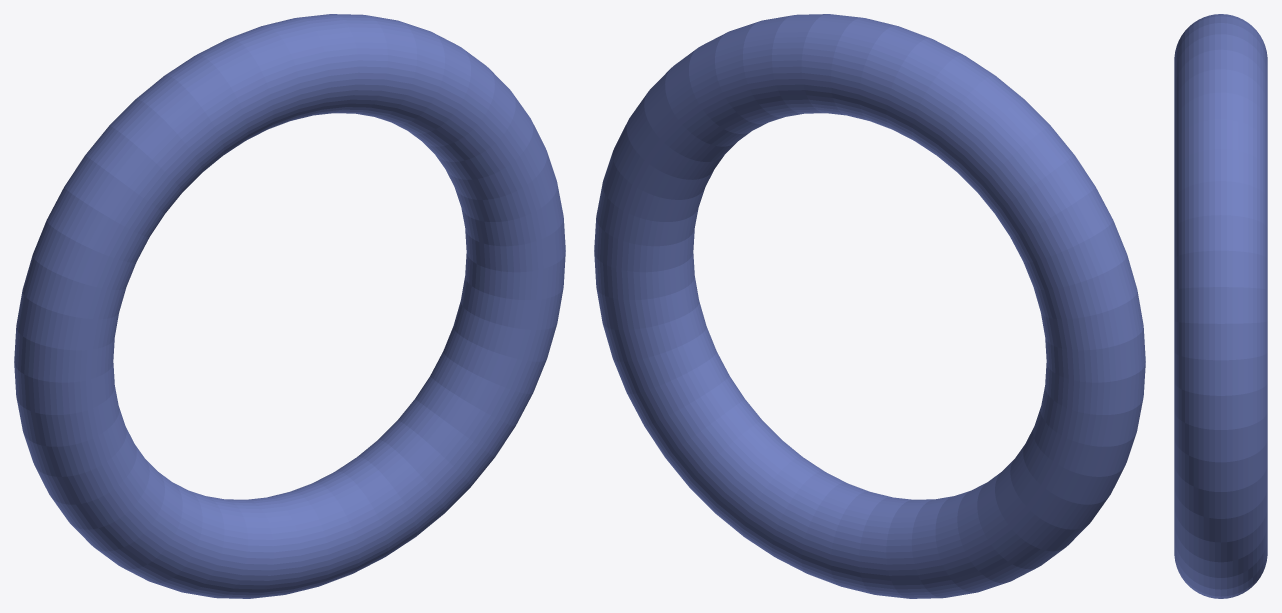
3 renders of one model, left to right at view 1: azimuth 30°, elevation 25°; view 2: azimuth 150°, elevation 25°; view 3: azimuth 270°, elevation 25°, orthographic. The views are drawn at different scales.
Parts seen in each view (by area): view 1: world; view 2: world; view 3: world.
Part boxes in pixels (x1,y1,x2,y2): world: (14,14,565,598); world: (594,14,1145,598); world: (1174,14,1267,598).
Size of the model in its own units: 15.87 by 15.84 by 2.53.
